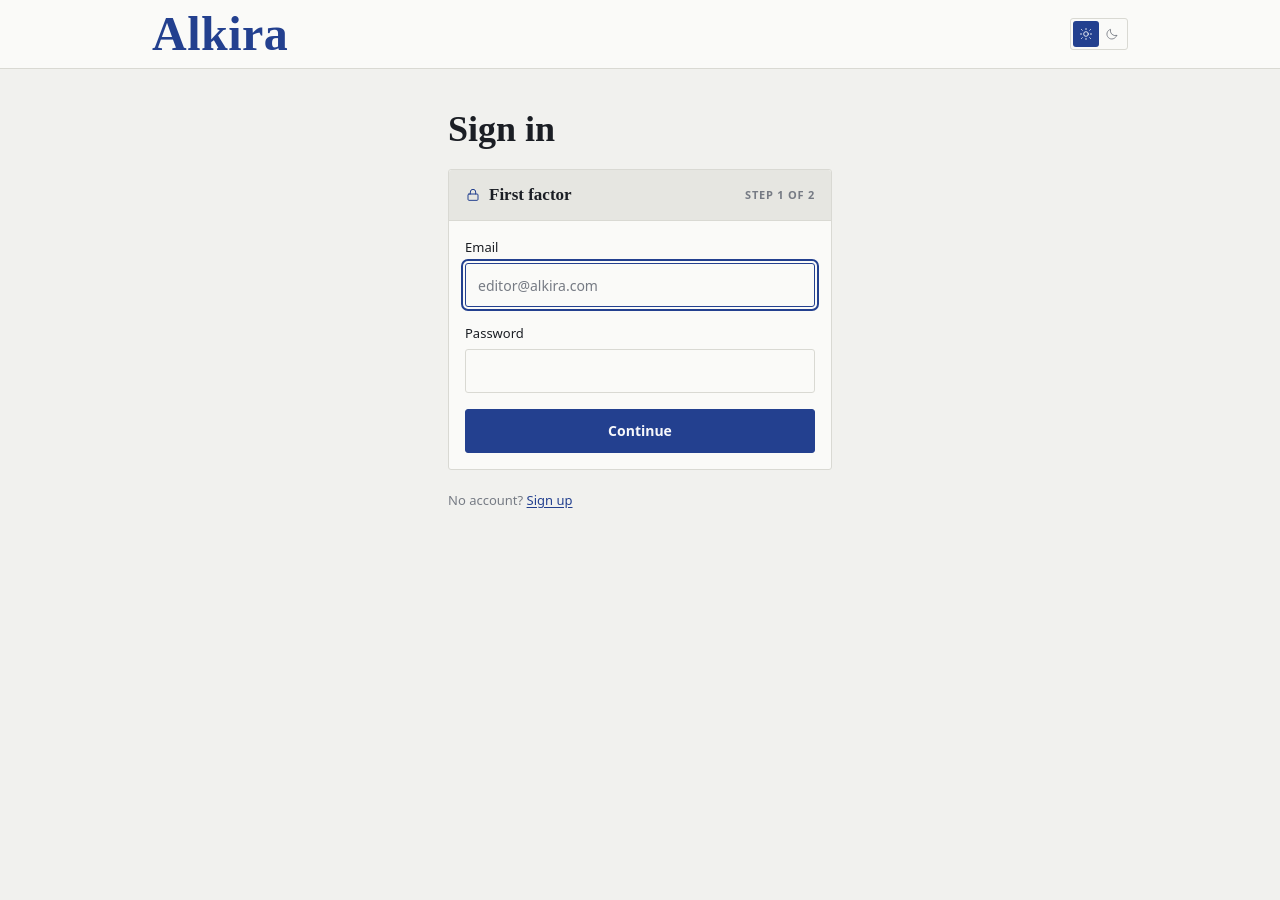
Scenario: sign up › reports every invalid field rather than submitting
Click the link "Sign up" at (550, 500), box [527, 491, 572, 509]
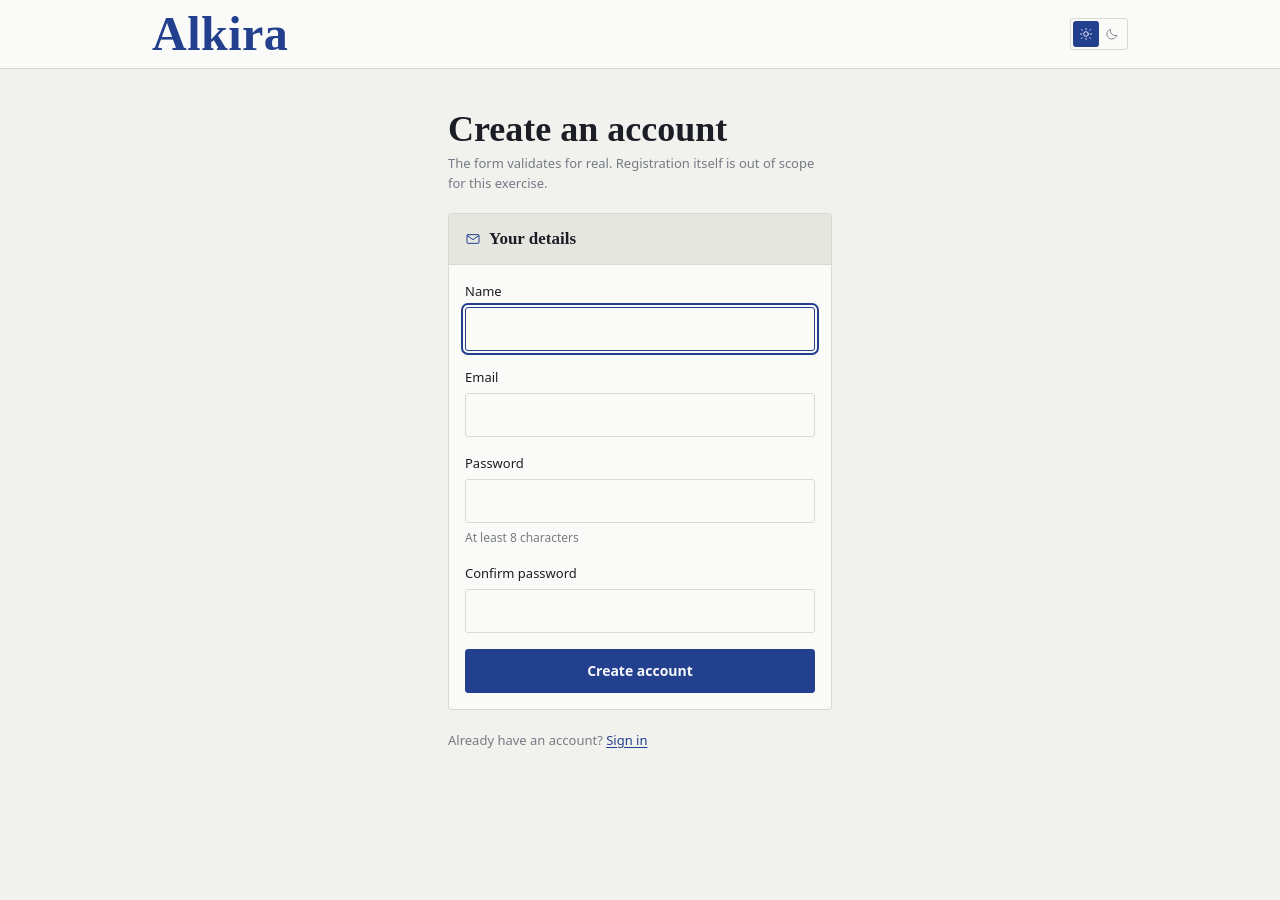
Result: the heading "Create an account" is shown at [448, 109, 727, 149]
Click the button "Create account" at (640, 671), box [465, 649, 815, 693]
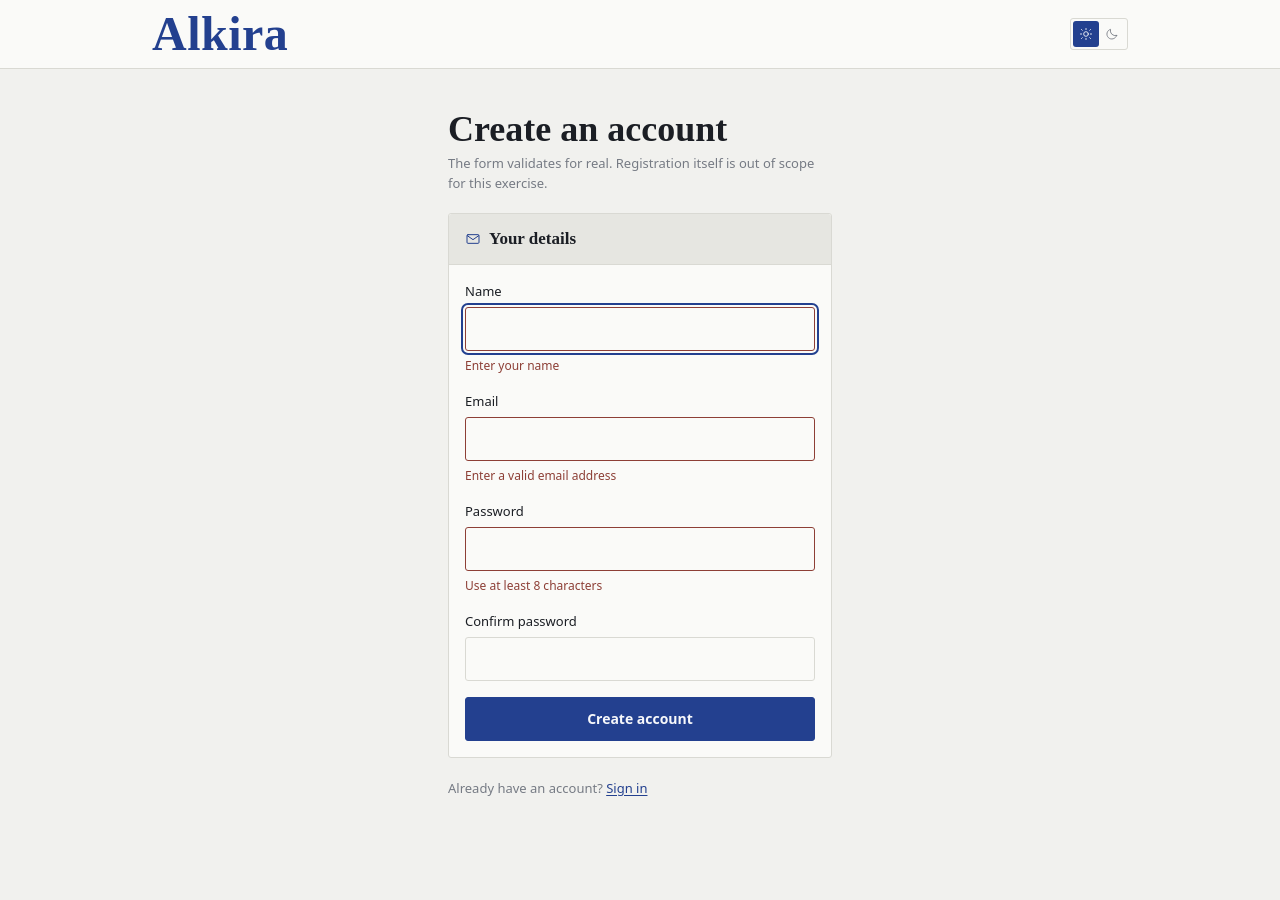
Result: the text "Enter a valid email address" is shown at [465, 467, 616, 484]
